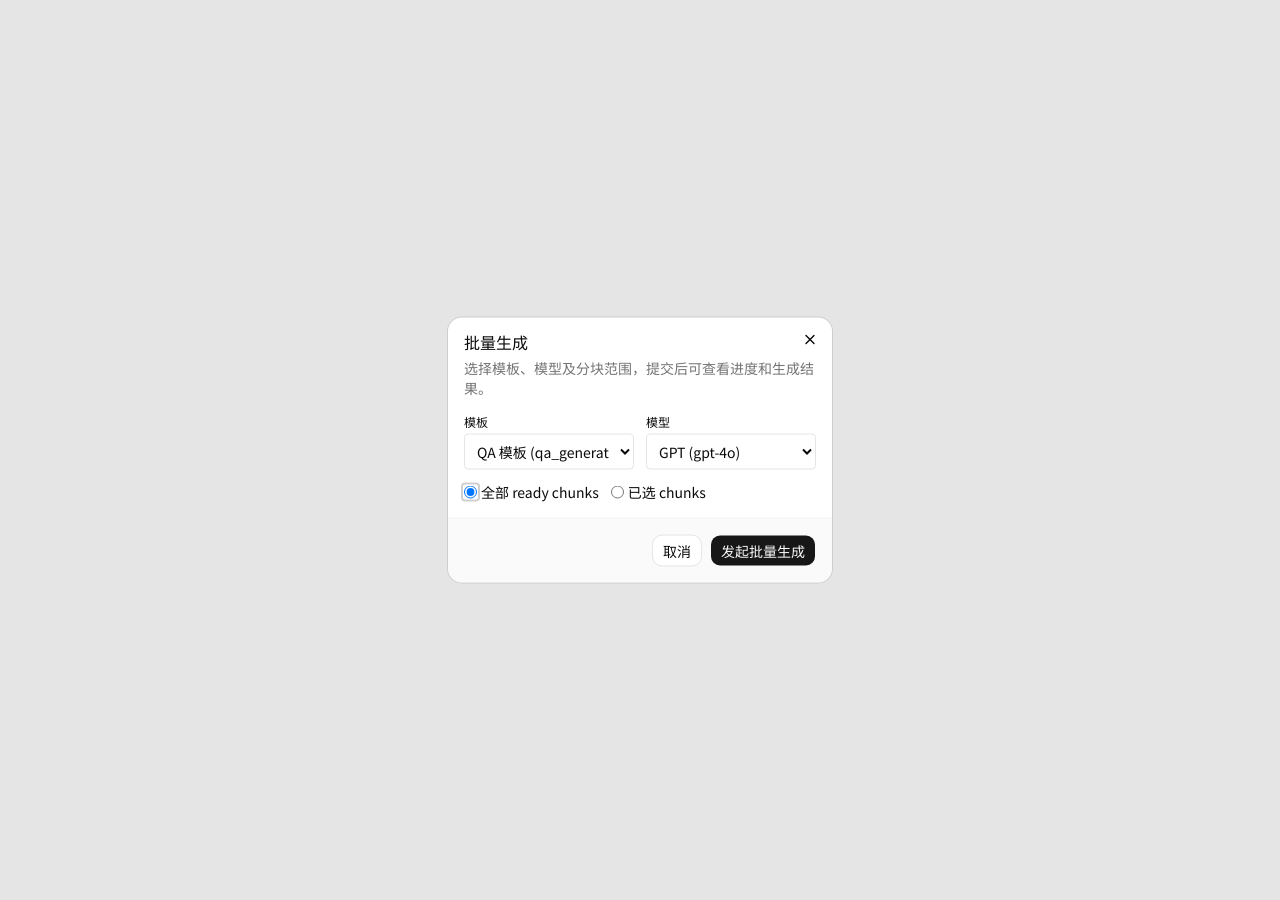
Test: 批量生成对话框 › 部分失败展示成功/失败/取消计数与失败明细
The image size is (1280, 900).
Click the button "发起批量生成".
click(763, 550)  # box [710,534,816,566]
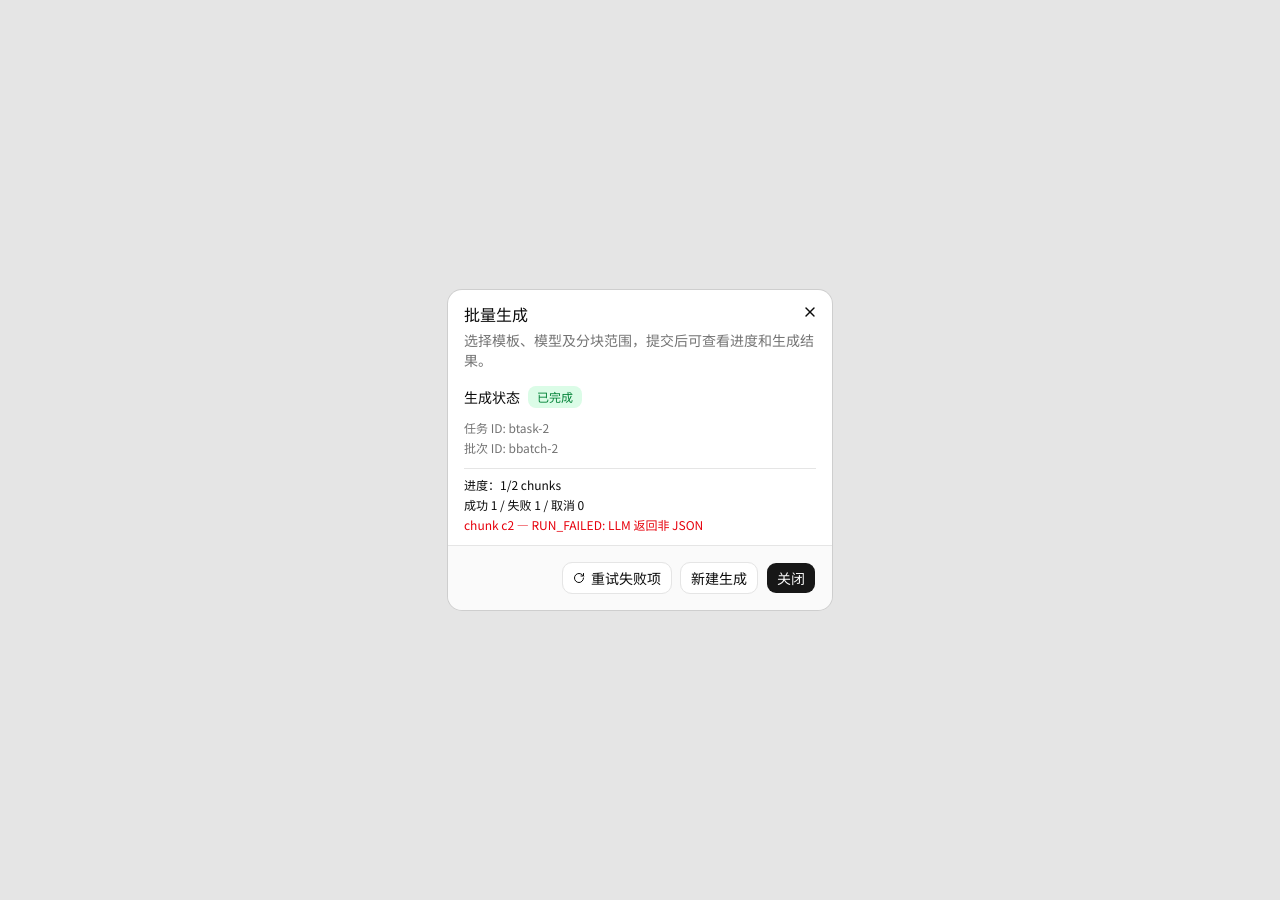
Check: the text "成功 1 / 失败 1 / 取消 0" is shown, box [464,496,584,513]
Check: the list item "chunk c2 — RUN_FAILED: LLM 返回非 JSON" is shown, box [464,516,703,533]
